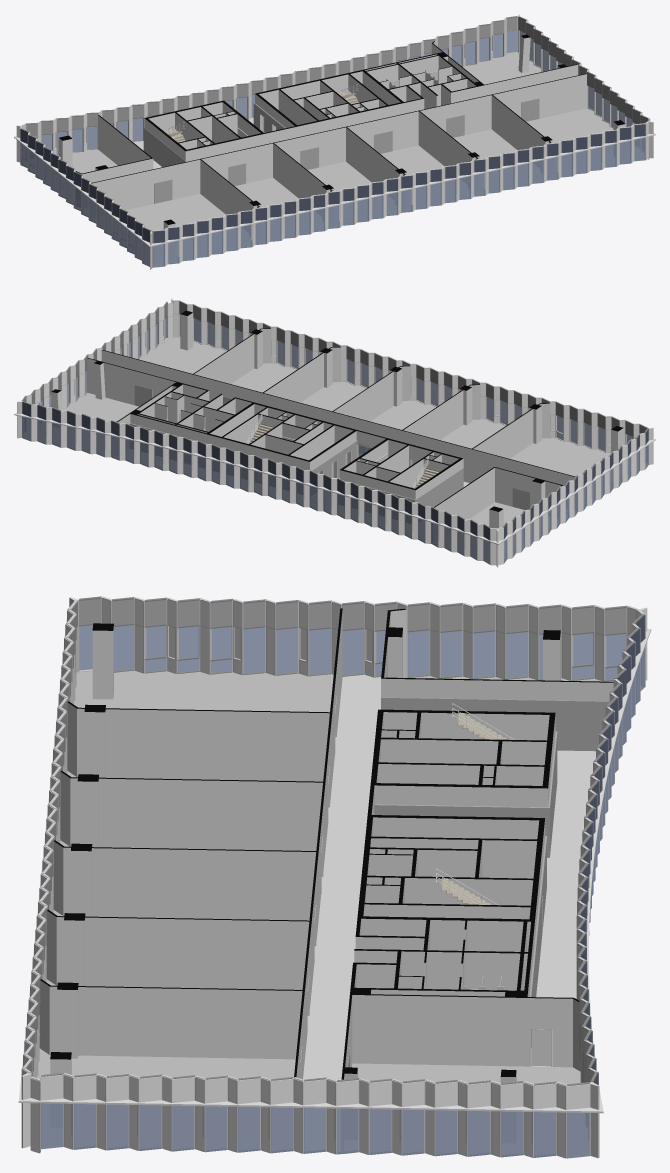
3 views of the same model, one above another, from view 1: azimuth 30°, elevation 25°; view 2: azimuth 150°, elevation 25°; view 3: azimuth 270°, elevation 25° (orthographic). The views are drawn at different scales.
Parts seen in each view (by area): view 1: A5-9F_Wall, A5-9F_GlassFrame, A5-9F_Glass, A5-9F_Floor, A5-9F_Exterior, A5-9F_Door, A5-9F_Pillar, A5-9F_Wall2, A5-9F_Stairs; view 2: A5-9F_Wall, A5-9F_GlassFrame, A5-9F_Glass, A5-9F_Floor, A5-9F_Pillar, A5-9F_Wall2, A5-9F_Exterior, A5-9F_Door, A5-9F_Stairs; view 3: A5-9F_Wall, A5-9F_GlassFrame, A5-9F_Floor, A5-9F_Glass, A5-9F_Pillar, A5-9F_Wall2, A5-9F_Exterior, A5-9F_Door, A5-9F_Stairs.
Boxes of the visible parts, x1=… form: A5-9F_Wall: x1=76, y1=41, x2=586, y2=242; A5-9F_GlassFrame: x1=20, y1=16, x2=650, y2=267; A5-9F_Glass: x1=20, y1=30, x2=645, y2=267; A5-9F_Floor: x1=23, y1=52, x2=643, y2=265; A5-9F_Exterior: x1=14, y1=14, x2=655, y2=269; A5-9F_Door: x1=154, y1=98, x2=539, y2=203; A5-9F_Pillar: x1=58, y1=34, x2=625, y2=258; A5-9F_Wall2: x1=143, y1=102, x2=285, y2=167; A5-9F_Stairs: x1=164, y1=84, x2=358, y2=142; A5-9F_Wall: x1=87, y1=328, x2=575, y2=542; A5-9F_GlassFrame: x1=21, y1=300, x2=648, y2=565; A5-9F_Glass: x1=22, y1=315, x2=648, y2=564; A5-9F_Floor: x1=24, y1=337, x2=646, y2=562; A5-9F_Pillar: x1=51, y1=310, x2=623, y2=528; A5-9F_Wall2: x1=129, y1=423, x2=463, y2=522; A5-9F_Exterior: x1=14, y1=298, x2=655, y2=567; A5-9F_Door: x1=127, y1=385, x2=529, y2=509; A5-9F_Stairs: x1=244, y1=412, x2=439, y2=488; A5-9F_Wall: x1=39, y1=608, x2=613, y2=1151; A5-9F_GlassFrame: x1=21, y1=596, x2=645, y2=1158; A5-9F_Floor: x1=37, y1=670, x2=613, y2=1158; A5-9F_Glass: x1=22, y1=602, x2=645, y2=1158; A5-9F_Pillar: x1=50, y1=623, x2=560, y2=1142; A5-9F_Wall2: x1=374, y1=697, x2=609, y2=1047; A5-9F_Exterior: x1=18, y1=597, x2=651, y2=1158; A5-9F_Door: x1=300, y1=673, x2=551, y2=1079; A5-9F_Stairs: x1=436, y1=703, x2=514, y2=905.
Bounding box in the file's own units: 61.7 × 5.55 × 33.45.
